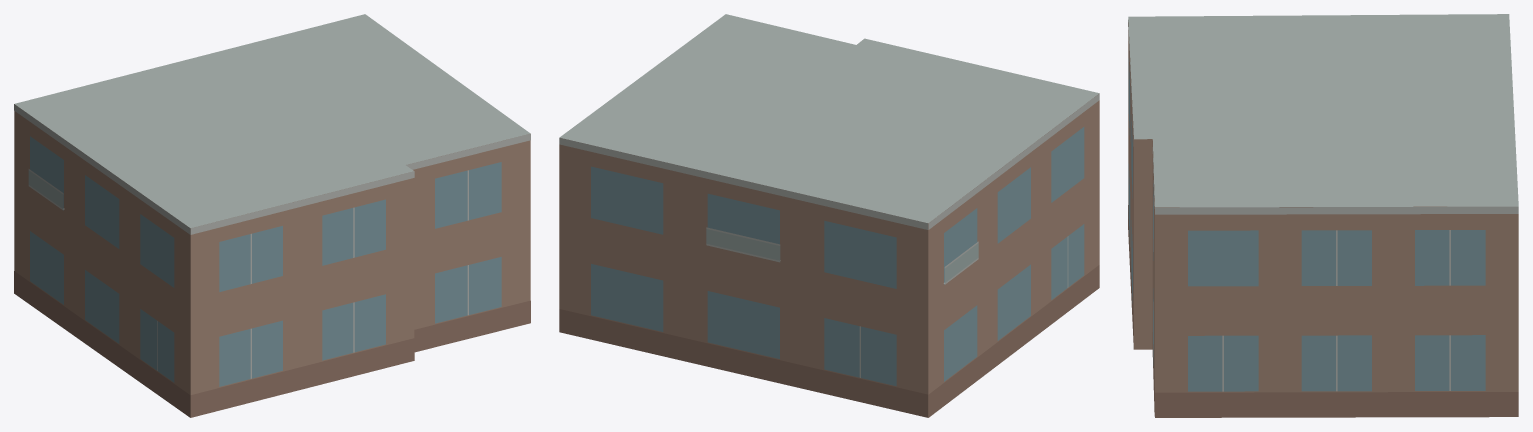
File: survey-upis-32502915.glb
The picture shows the model from 3 angles, left to right: view 1: azimuth 30°, elevation 25°; view 2: azimuth 150°, elevation 25°; view 3: azimuth 270°, elevation 25°; orthographic projection. The views are drawn at different scales.
Visible parts, largest first — view 1: survey-upis-32502915.tmp; view 2: survey-upis-32502915.tmp; view 3: survey-upis-32502915.tmp.
Part boxes in pixels (bbox=[...]): survey-upis-32502915.tmp: bbox=[14, 14, 530, 417]; survey-upis-32502915.tmp: bbox=[559, 14, 1099, 417]; survey-upis-32502915.tmp: bbox=[1128, 14, 1518, 417].
Bounding box in the file's own units: 13.73 × 6.95 × 11.7.
